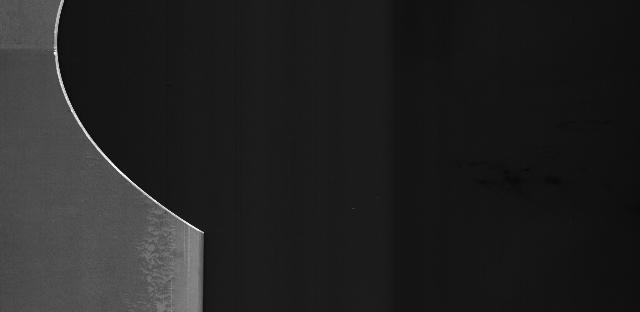welding_line: (0, 34, 81, 61)
